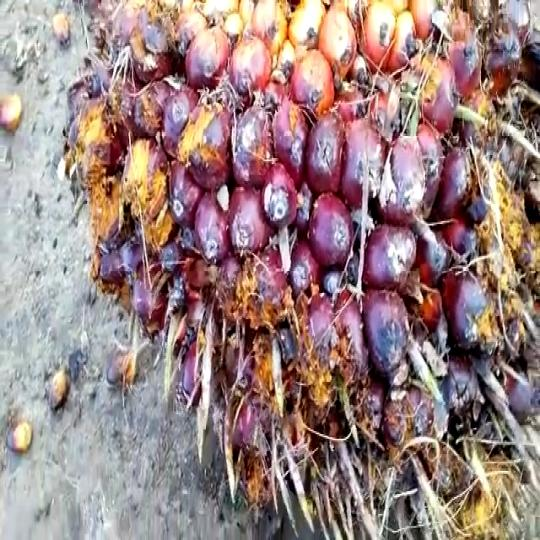masak: (47, 0, 536, 540)
